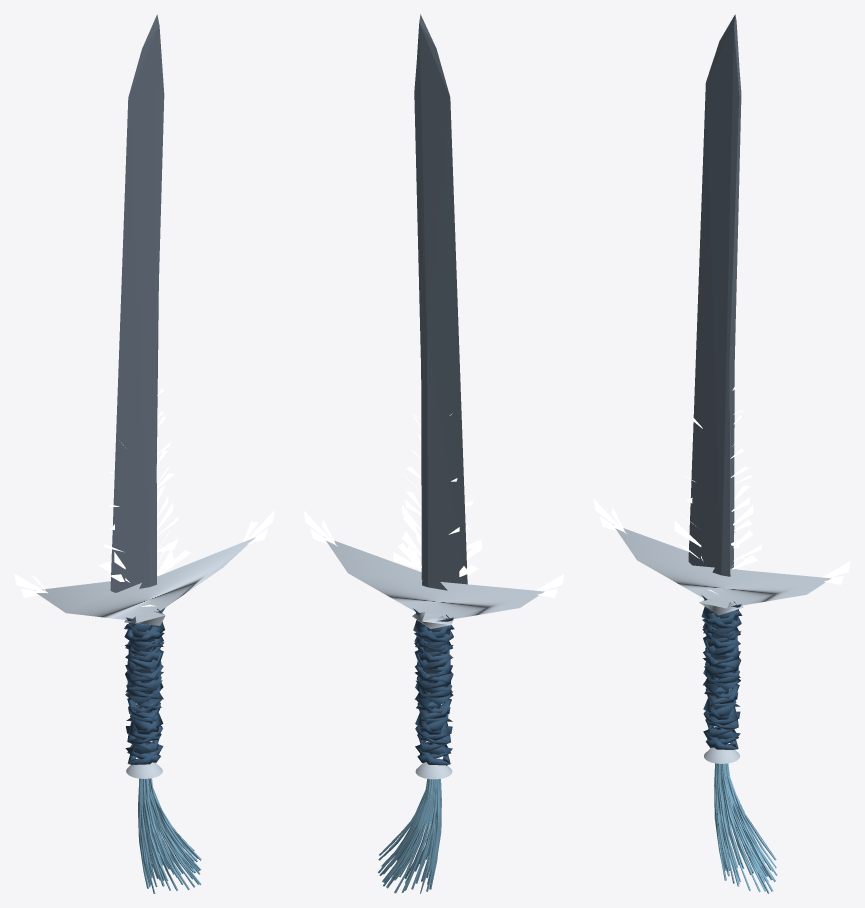
The model's file is tuyet-lac-vo-thanh.glb.
The picture shows the model from 3 angles, left to right: view 1: azimuth 30°, elevation 25°; view 2: azimuth 150°, elevation 25°; view 3: azimuth 330°, elevation 25°; orthographic projection.
Visible parts, largest first — view 1: blade, guard, wrap, tassel; view 2: blade, guard, wrap, tassel; view 3: blade, guard, wrap, tassel.
Part boxes in pixels (box(x1,y1,x2,y2)): blade: box(110, 14, 164, 592); guard: box(34, 537, 255, 620); wrap: box(124, 607, 165, 765); tassel: box(138, 778, 201, 893); blade: box(414, 14, 467, 590); guard: box(323, 536, 544, 618); wrap: box(413, 608, 454, 765); tassel: box(377, 779, 441, 893); blade: box(688, 14, 741, 576); guard: box(613, 524, 831, 605); wrap: box(701, 595, 742, 749); tassel: box(714, 763, 777, 893).
Size of the model in its own units: 0.491 by 1.58 by 0.0719.
